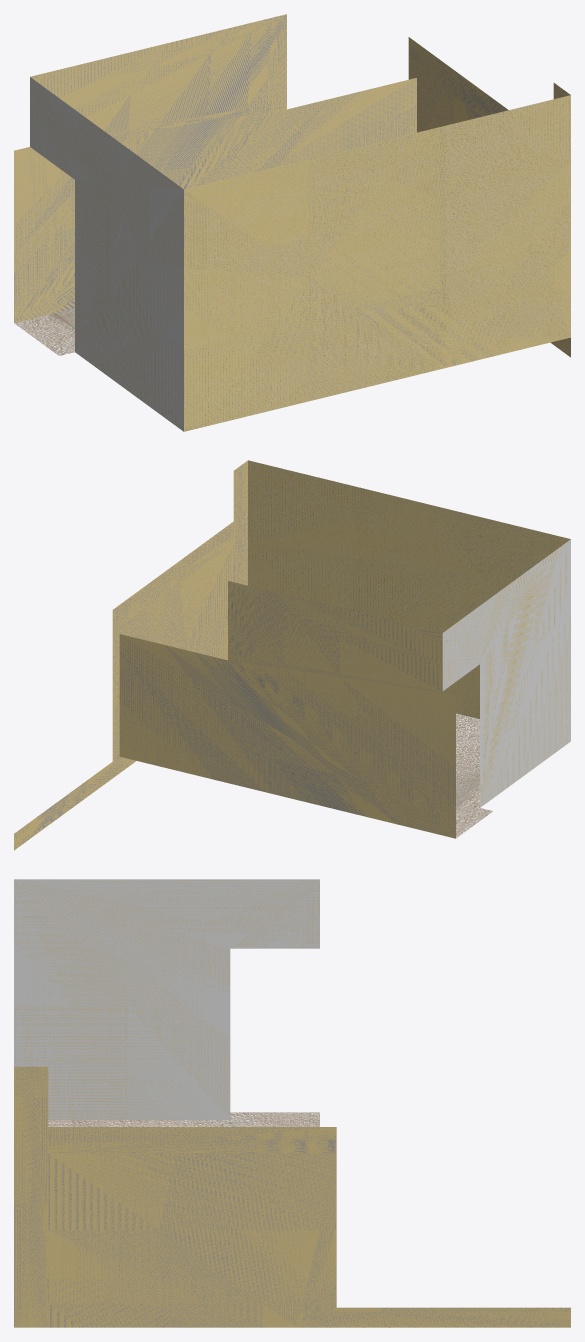
Rendered from CUA019.obj.
3 views of the same model, one above another, from view 1: azimuth 30°, elevation 25°; view 2: azimuth 150°, elevation 25°; view 3: azimuth 270°, elevation 25° (orthographic). The views are drawn at different scales.
Visible parts, largest first — view 1: Mesh1 CUA019 Model; view 2: Mesh1 CUA019 Model; view 3: Mesh1 CUA019 Model.
Boxes of the visible parts, bbox=[...] form: Mesh1 CUA019 Model: bbox=[14, 14, 570, 431]; Mesh1 CUA019 Model: bbox=[14, 460, 570, 850]; Mesh1 CUA019 Model: bbox=[14, 879, 570, 1327].
Size of the model in its own units: 5.22 by 3.25 by 6.29.
Materials: 6 (3 with a texture image).
